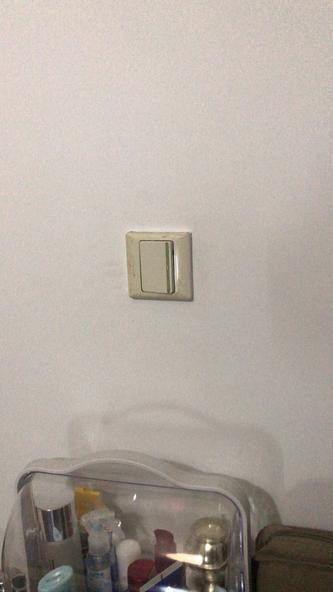switch: (133, 235, 181, 298)
